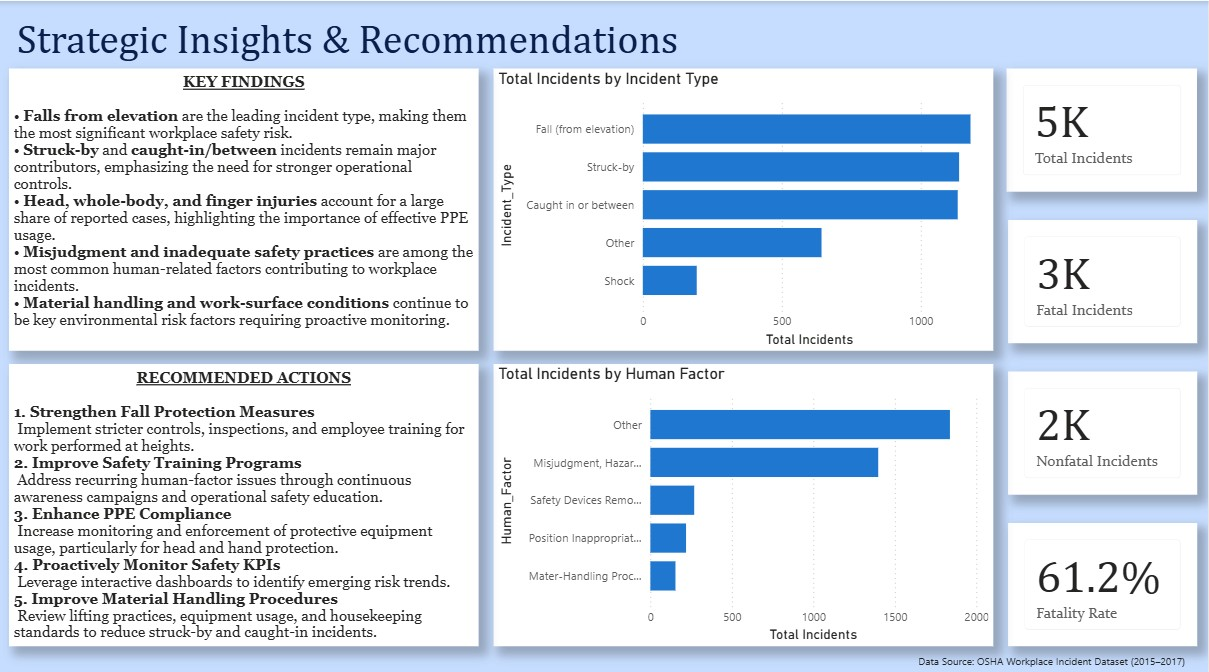

The page's visual inventory and layout, read from the dashboard file:
{"tool":"powerbi","page":{"name":"Strategic Insights","canvas":[1280,720],"ordinal":3},"visuals":[{"type":"textbox","box":[13.2,9.4,1222.7,68],"z":0},{"type":"cardVisual","title":"Tota","fields":{"Data":["osha.Total_Incidents"]},"box":[1068,72.3,202,130.4],"z":1000},{"type":"cardVisual","fields":{"Data":["osha.Fatal_Incidents"]},"box":[1069.6,233,200.4,130.4],"z":2000},{"type":"cardVisual","fields":{"Data":["osha.Nonfatal_Incidents"]},"box":[1069.6,393.6,200.4,130.4],"z":3000},{"type":"cardVisual","fields":{"Data":["osha.Fatality_Rate"]},"box":[1069.6,554.3,200.4,130.4],"z":4000},{"type":"barChart","title":"Total Incidents by Incident Type","fields":{"Category":["osha.Incident_Type"],"Y":["osha.Total_Incidents"]},"box":[523.2,72.3,529.7,299],"z":5000},{"type":"barChart","title":"Total Incidents by Human Factor","fields":{"Category":["osha.Human_Factor"],"Y":["osha.Total_Incidents"]},"box":[524,385.7,529.7,299],"z":6000},{"type":"textbox","box":[10.3,72.3,497.9,299],"z":7000},{"type":"textbox","box":[10.3,385.7,497.9,299],"z":8000},{"type":"textbox","box":[969.3,684.7,310.8,31.2],"z":9000}]}

Visuals, with their boxes in screenshot pixels (x1, y1, x2, y2), scaled from the page's 1280x720 canvas onto the 1209x672 screenshot:
textbox: [12,9,1167,72]
"Tota" cardVisual: [1009,67,1200,189]
cardVisual - osha.Fatal_Incidents: [1010,217,1200,339]
cardVisual - osha.Nonfatal_Incidents: [1010,367,1200,489]
cardVisual - osha.Fatality_Rate: [1010,517,1200,639]
"Total Incidents by Incident Type" barChart: [494,67,994,347]
"Total Incidents by Human Factor" barChart: [495,360,995,639]
textbox: [10,67,480,347]
textbox: [10,360,480,639]
textbox: [916,639,1208,668]
